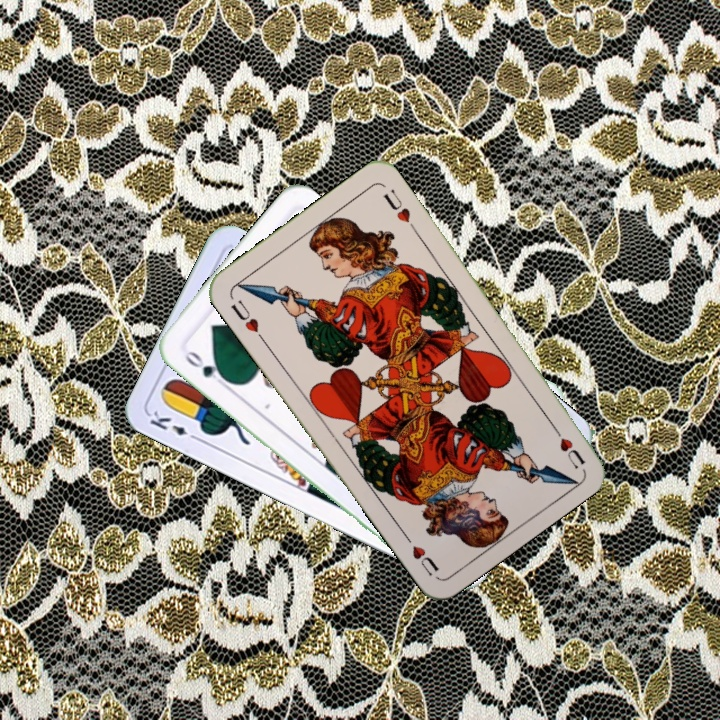EK: (146, 406, 202, 444)
GO: (180, 343, 231, 389)
HU: (546, 419, 588, 472), (226, 295, 267, 344)
